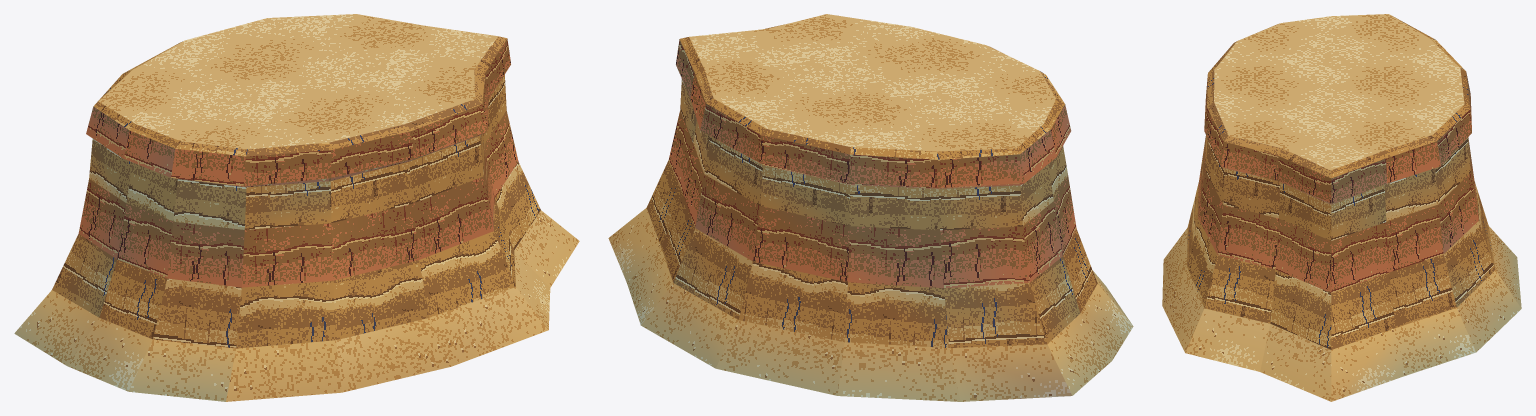
The model's file is wland.mesa.glb.
3 renders of one model, left to right at view 1: azimuth 30°, elevation 25°; view 2: azimuth 150°, elevation 25°; view 3: azimuth 270°, elevation 25°, orthographic. The views are drawn at different scales.
Visible parts, largest first — view 1: kit_mesa; view 2: kit_mesa; view 3: kit_mesa.
Part boxes in pixels (x1,y1,x2,y2): kit_mesa: (14,14,579,401); kit_mesa: (608,14,1133,401); kit_mesa: (1162,14,1521,401).
Size of the model in its own units: 24.14 by 10 by 16.56.
Materials: 4 (4 with a texture image).
